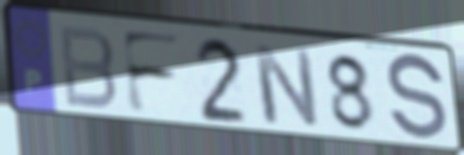2: (194, 34, 248, 129)
8: (324, 51, 380, 134)
B: (56, 23, 120, 113)
F: (118, 28, 185, 117)
N: (249, 42, 323, 131)
S: (384, 51, 451, 146)
